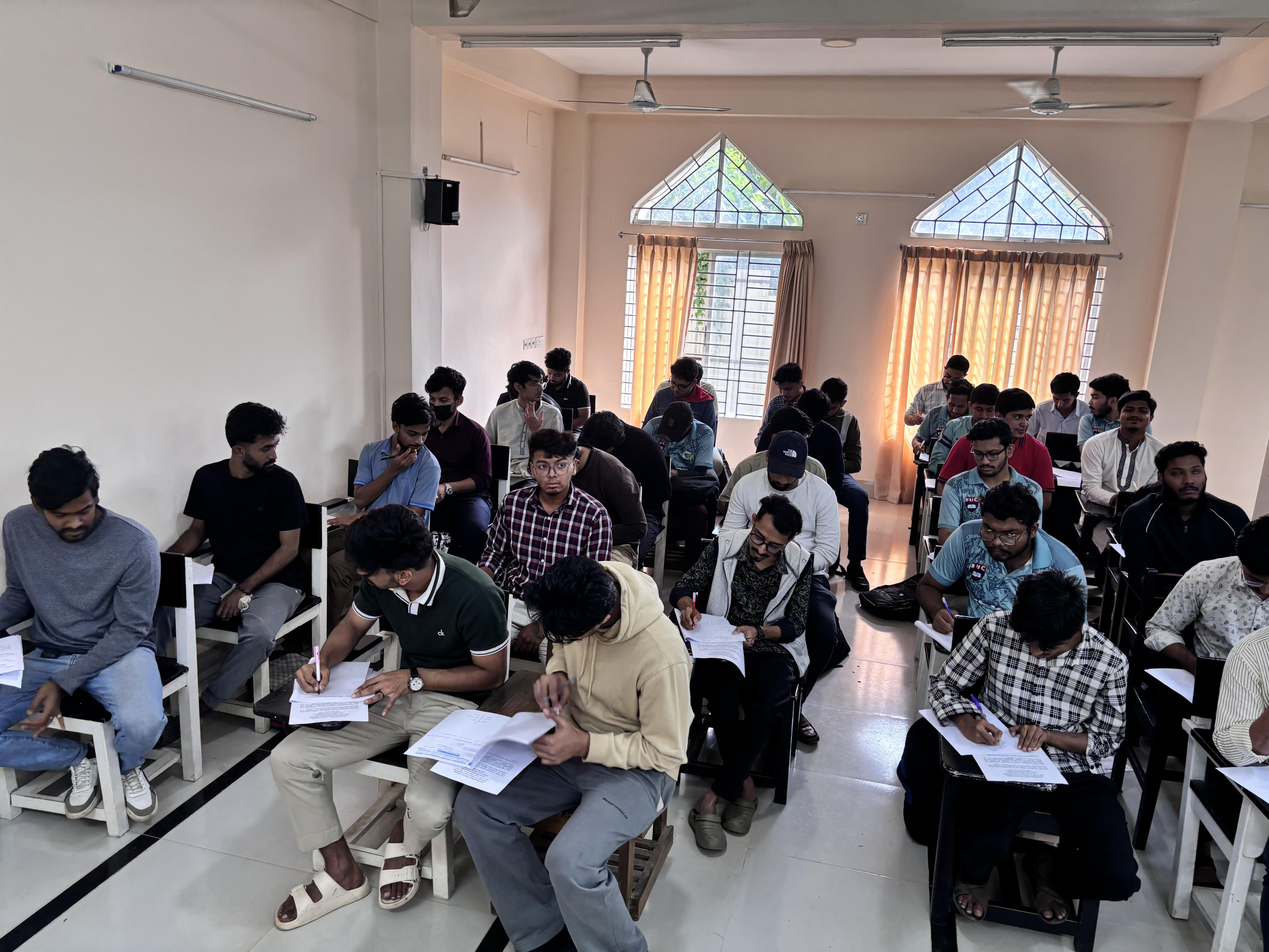copying: (0, 441, 178, 756), (187, 401, 310, 637), (340, 399, 443, 528)
no_cheating: (929, 574, 1134, 894), (491, 554, 666, 886), (675, 505, 822, 693), (933, 501, 1096, 662), (724, 442, 852, 558), (1085, 385, 1169, 510), (923, 429, 1033, 518), (632, 394, 714, 480), (414, 371, 483, 457), (567, 407, 666, 465), (639, 352, 722, 413), (533, 338, 586, 404), (812, 376, 869, 433), (913, 354, 962, 413), (1044, 368, 1081, 439), (760, 354, 805, 411), (948, 387, 996, 428), (930, 380, 965, 429)
side_talking: (269, 512, 485, 747)
suspicious_moving: (1111, 431, 1235, 574), (485, 438, 600, 560), (483, 348, 575, 431), (1003, 379, 1058, 464), (1082, 368, 1129, 432)
